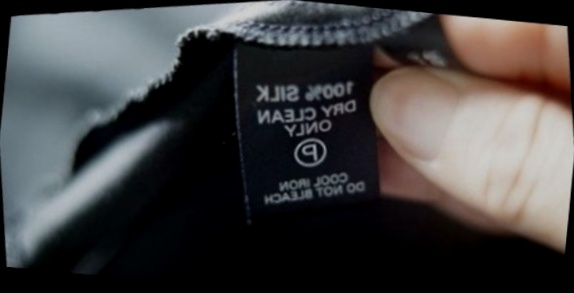dry_clean_any_solvent_except_trichloroethylene: (288, 132, 331, 171)
